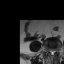CCS_stenosis: (51, 49, 53, 56)
LFS_severe_stenosis: (55, 49, 57, 53)
LLS_normal: (53, 49, 55, 55)
RFS_severe_stenosis: (47, 49, 49, 53)
RLS_stenosis: (49, 49, 51, 55)
